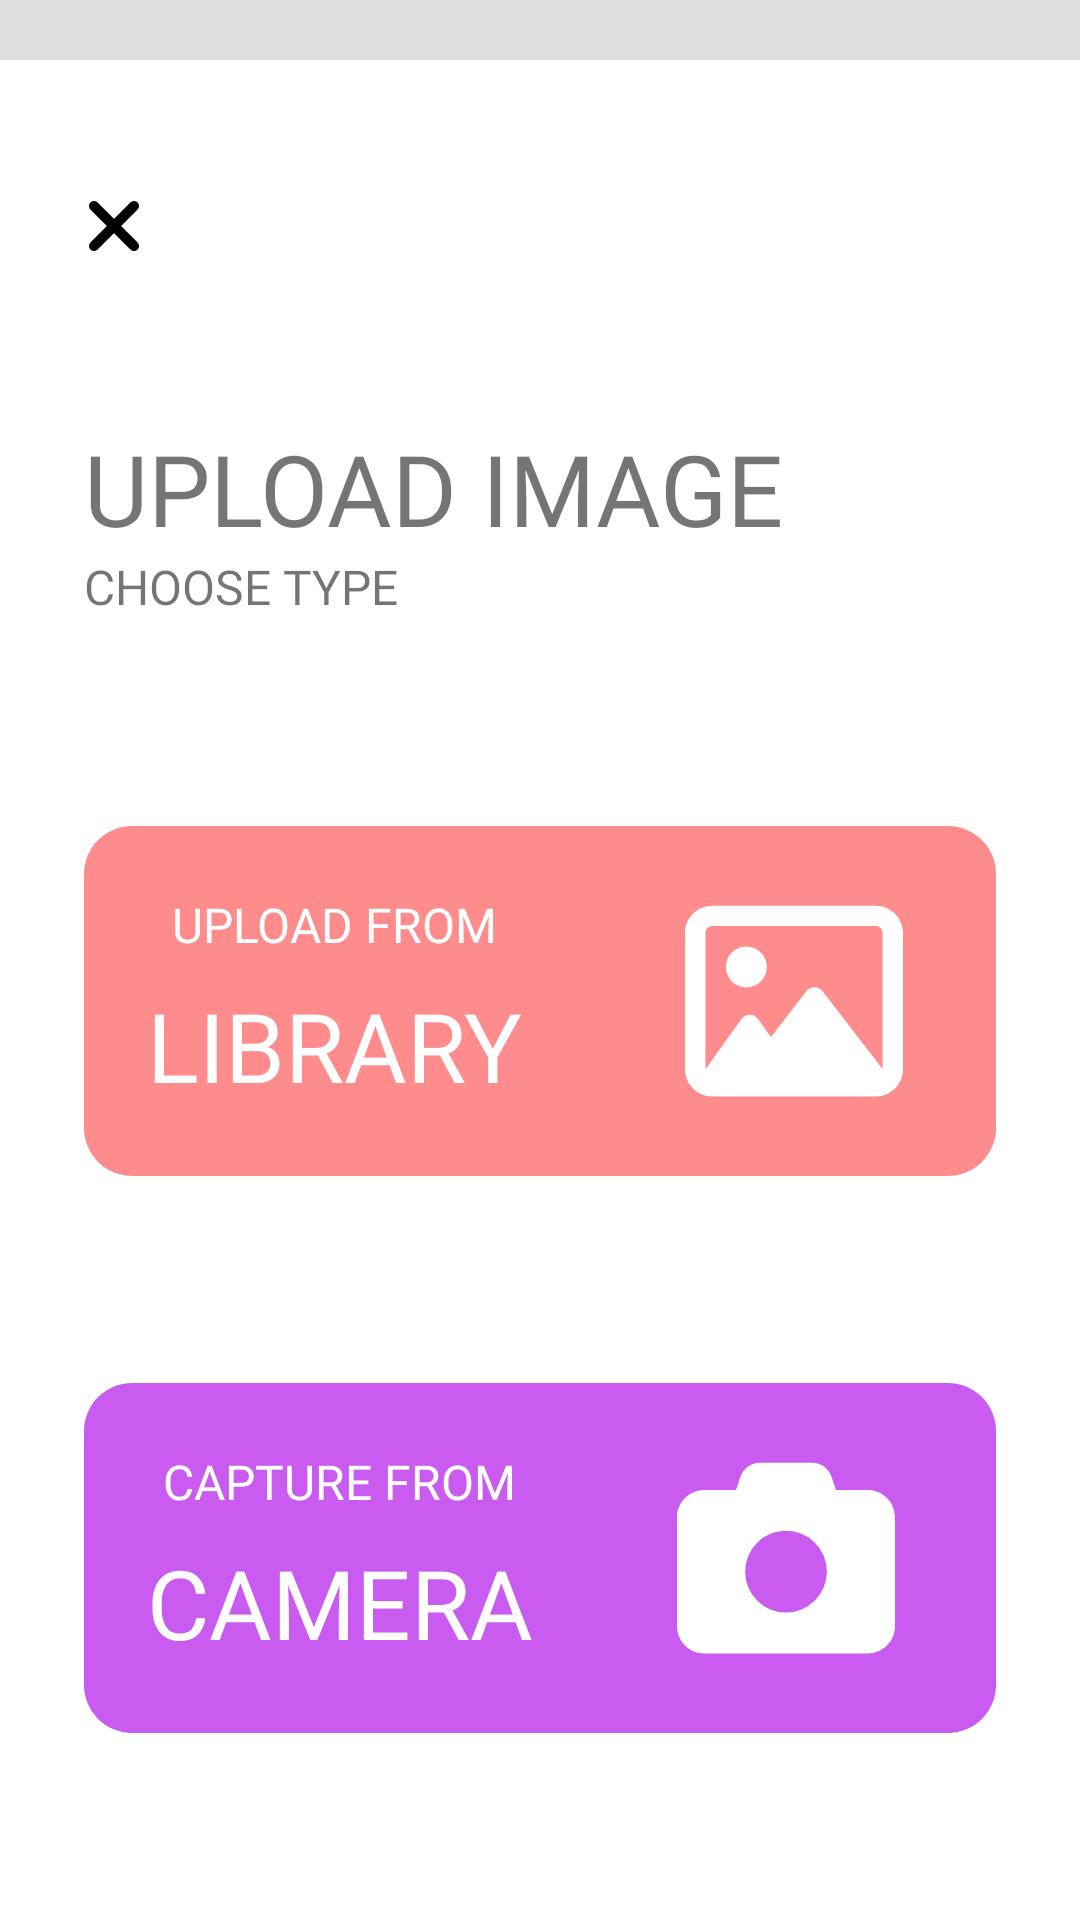

Icon click points for this 1080*1920 phone screenshot, format (x,y):
xmark: (114,226)
